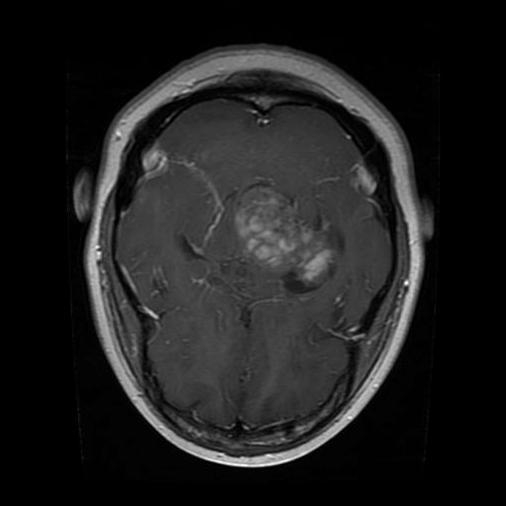Tumour-Glioma: (225, 188, 343, 301)
